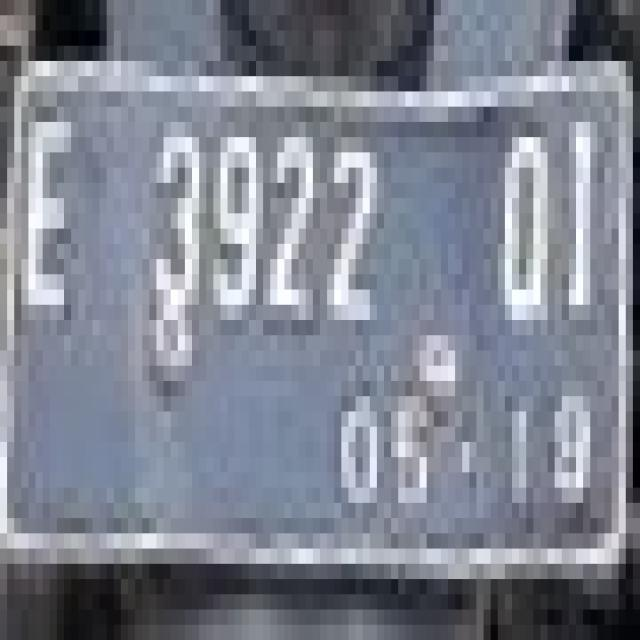plate: (0, 30, 626, 564)
